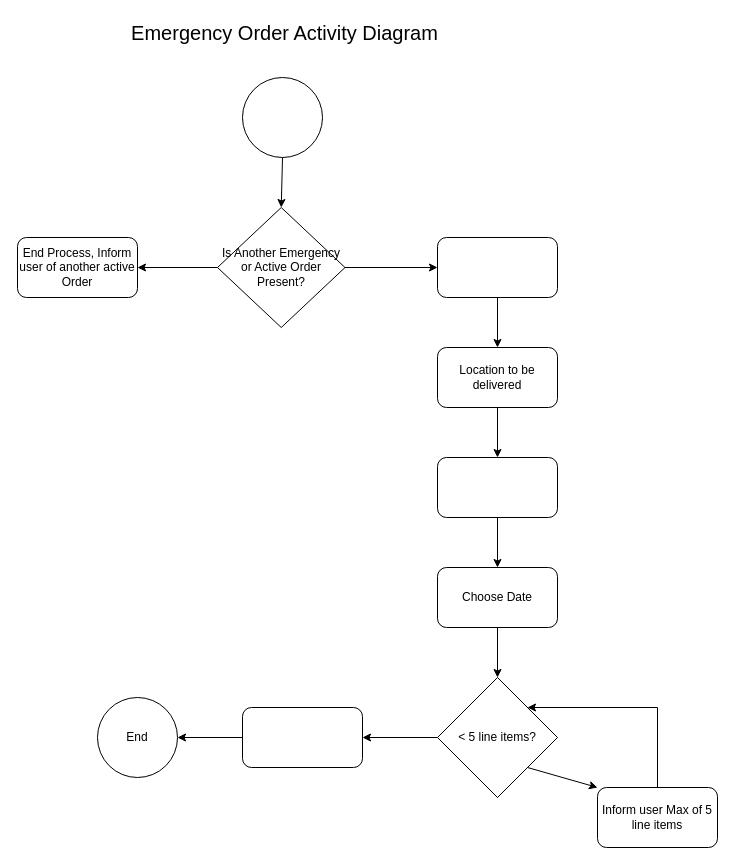
Some shapes in this 735 by 865 pixel diagram are drawn without their labels. Here are the shapes that lost their labels. From the top down, the centre of each, then its label:
the point at 282,117: Begin
the point at 497,267: Assign New Status: Open Create Emergency Order Form
the point at 497,487: Select Warehouse
the point at 302,737: Order Status: Submitted
